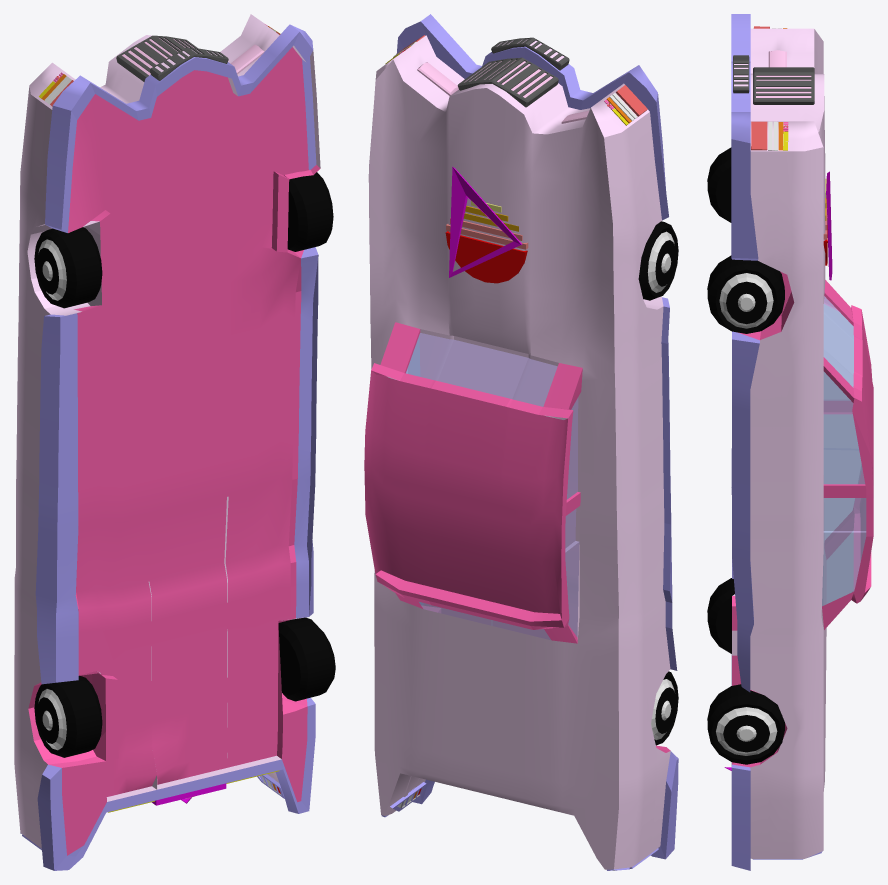
File: Cadillac.fbx
The picture shows the model from 3 angles, left to right: view 1: azimuth 30°, elevation 25°; view 2: azimuth 150°, elevation 25°; view 3: azimuth 270°, elevation 25°; orthographic projection. The views are drawn at different scales.
Parts seen in each view (by area): view 1: Cadillac; view 2: Cadillac; view 3: Cadillac.
Part boxes in pixels (bbox=[...]): Cadillac: bbox=[14, 14, 335, 870]; Cadillac: bbox=[364, 14, 678, 870]; Cadillac: bbox=[707, 14, 873, 870].
Size of the model in its own units: 3.8 by 10.12 by 2.01.
